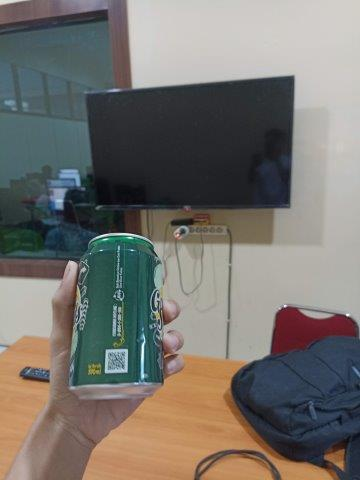kaleng: (67, 233, 164, 400)
